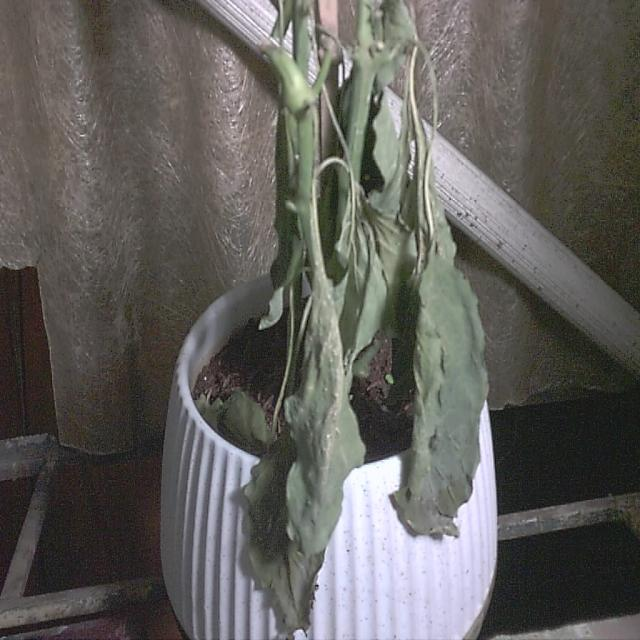Leaf: (243, 280, 364, 630), (390, 246, 489, 541)
